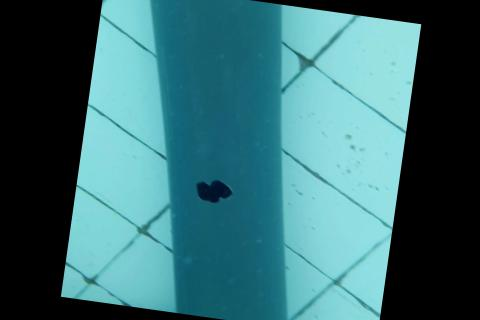kebocoran: (189, 176, 234, 208)
